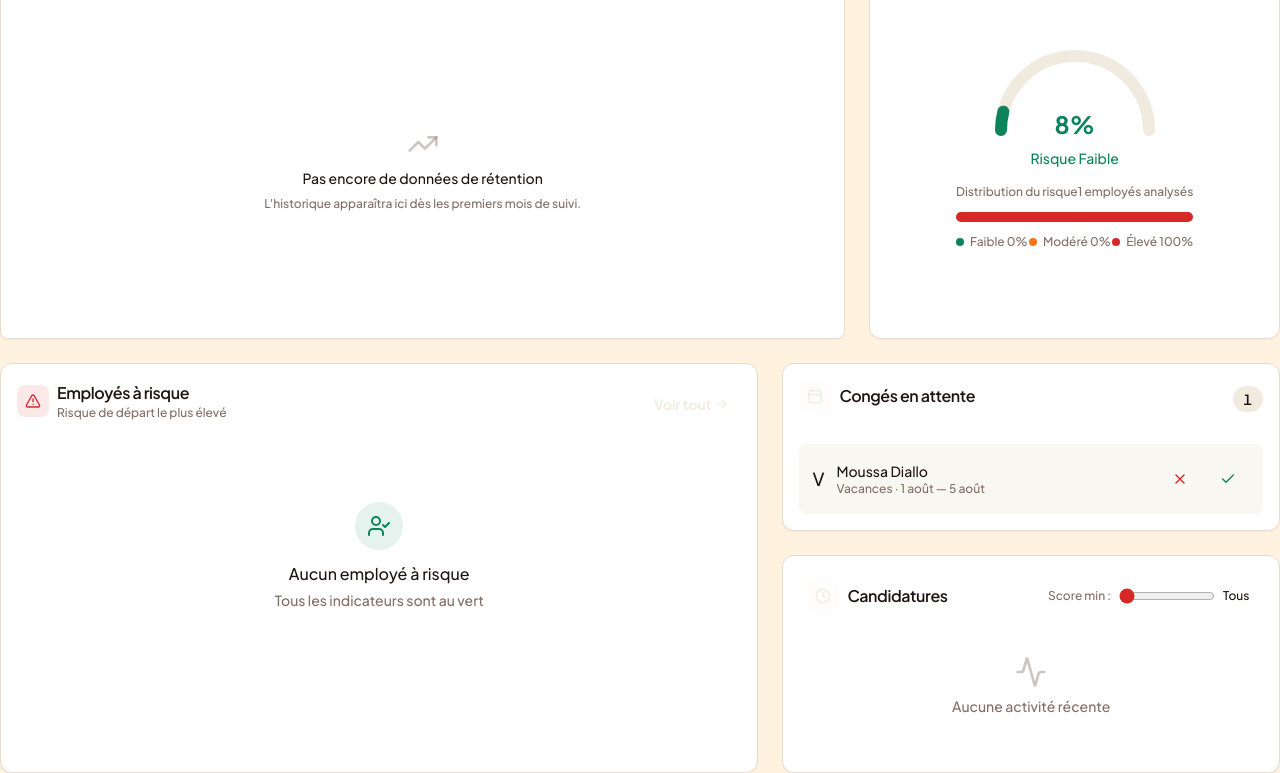
it: HRDashboard — décisions de congé confirmées, jamais immédiates › n'approuve pas le congé au premier clic : une confirmation est requise
This screenshot has width=1280, height=773.
(page scrolled)
What coordinates should you click on to do the following:
click the button named "approuver le congé de moussa diallo"
I would click on:
 (1228, 479)
Its box is [1206, 457, 1250, 501].
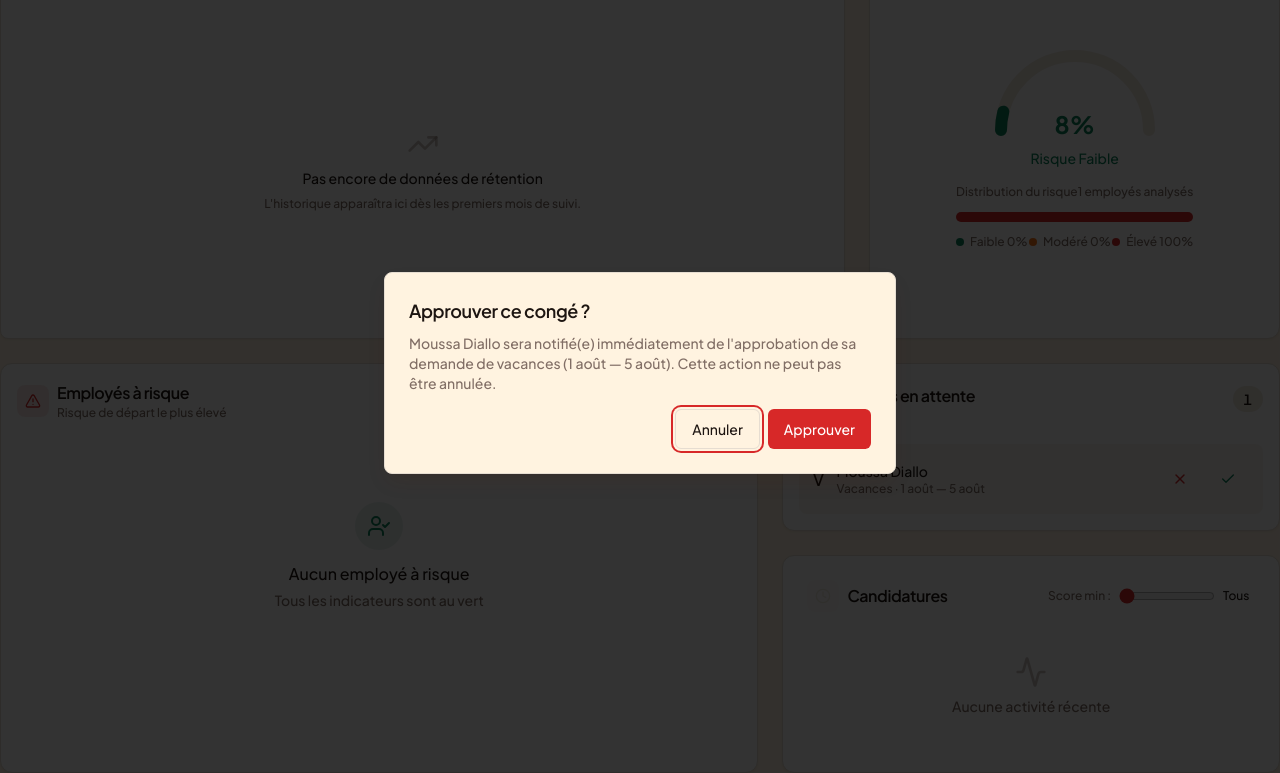
Check: the heading "Approuver ce congé ?" is shown, box [409, 299, 590, 322]
